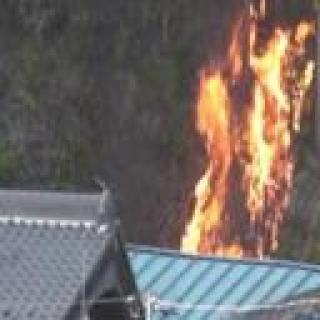fire: (177, 9, 320, 261)
